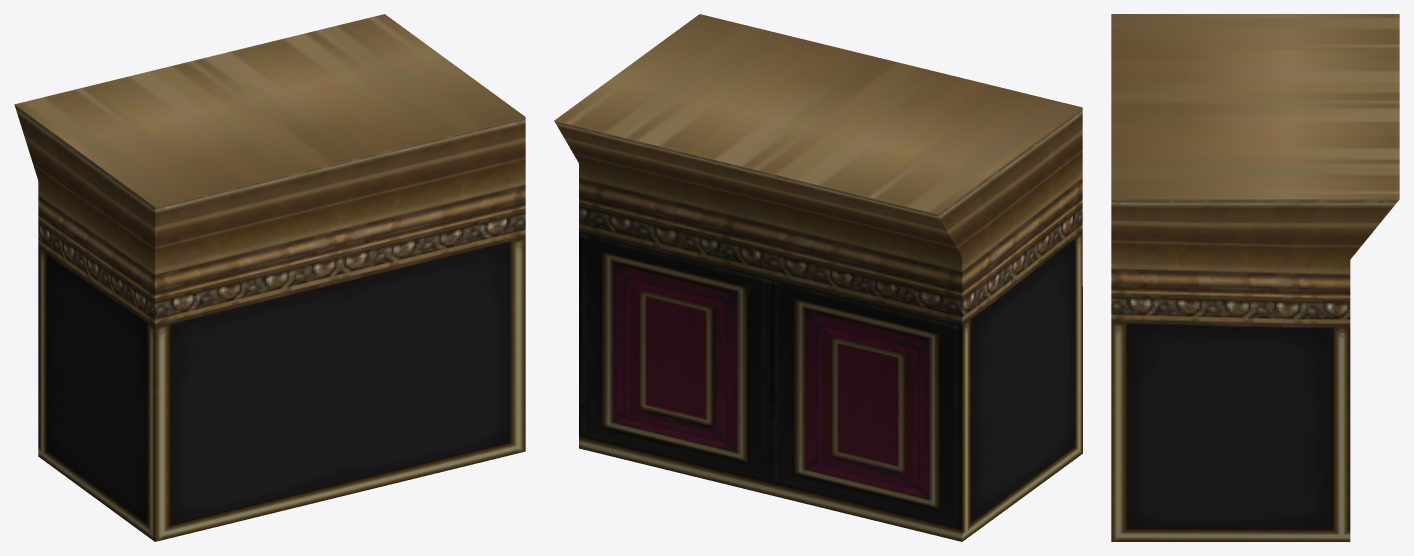
File: furni_0200321_01.FBX
3 renders of one model, left to right at view 1: azimuth 30°, elevation 25°; view 2: azimuth 150°, elevation 25°; view 3: azimuth 270°, elevation 25°, orthographic. The views are drawn at different scales.
Parts seen in each view (by area): view 1: furni_0200321_01; view 2: furni_0200321_01; view 3: furni_0200321_01.
Part boxes in pixels (x1=…): furni_0200321_01: x1=14, y1=14, x2=525, y2=541; furni_0200321_01: x1=554, y1=14, x2=1082, y2=541; furni_0200321_01: x1=1111, y1=14, x2=1399, y2=541.
Bounding box in the file's own units: 81.43 × 70.29 × 53.58.
